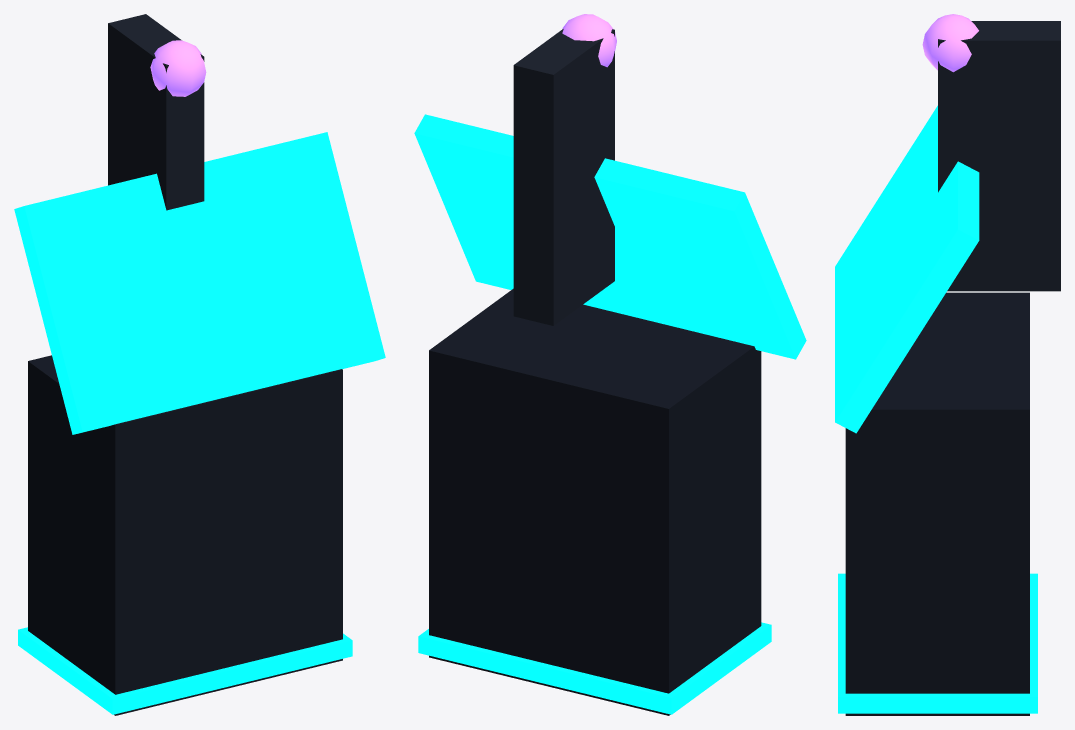
Rendered from prop_holo_kiosk.glb.
The picture shows the model from 3 angles, left to right: view 1: azimuth 30°, elevation 25°; view 2: azimuth 150°, elevation 25°; view 3: azimuth 270°, elevation 25°; orthographic projection. The views are drawn at different scales.
Visible parts, largest first — view 1: PropHoloKiosk; view 2: PropHoloKiosk; view 3: PropHoloKiosk.
Part boxes in pixels (x1,y1,x2,y2): PropHoloKiosk: (14,14,385,715); PropHoloKiosk: (414,14,806,715); PropHoloKiosk: (835,14,1060,715).
Size of the model in its own units: 1.2 by 2.3 by 0.7346.
